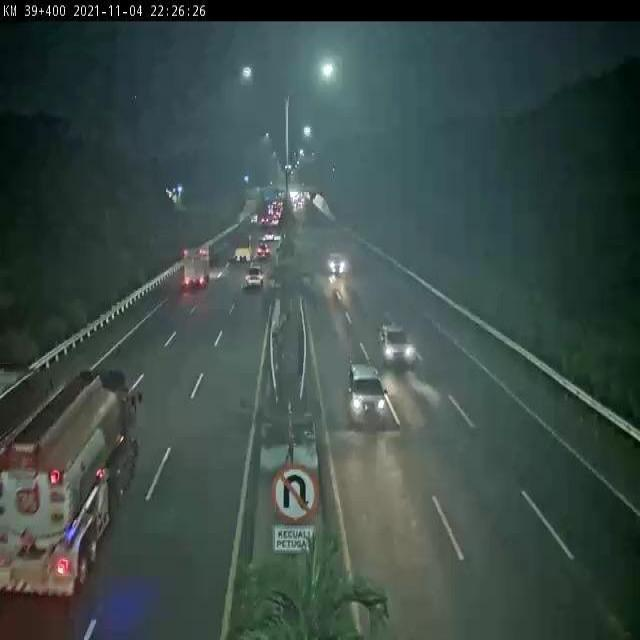car: (347, 360, 389, 427), (377, 320, 417, 367), (327, 254, 347, 278), (246, 264, 263, 288), (257, 239, 269, 257)
truck-l-: (182, 246, 211, 290)
truck-m-: (233, 229, 252, 264)
truck-xl-: (0, 366, 136, 602)
